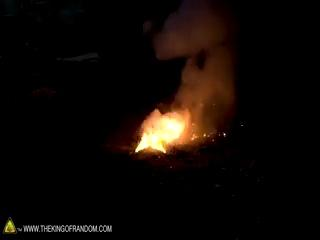Fire: (123, 111, 195, 154)
